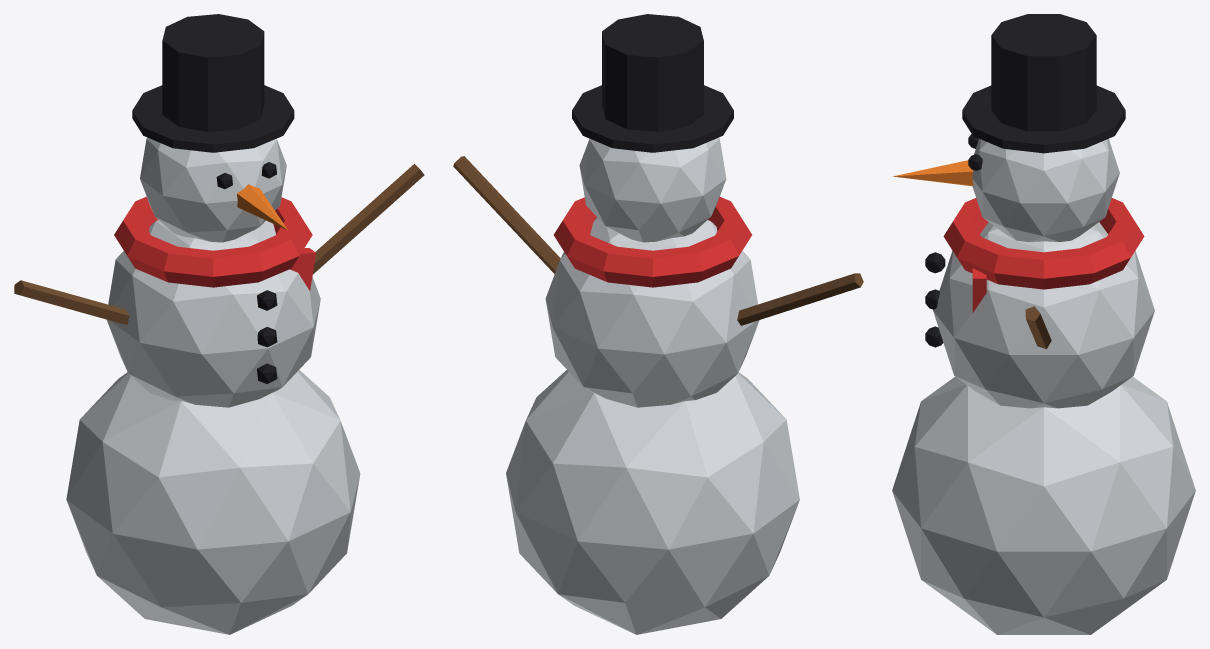
File: Snowman.fbx
The picture shows the model from 3 angles, left to right: view 1: azimuth 30°, elevation 25°; view 2: azimuth 150°, elevation 25°; view 3: azimuth 270°, elevation 25°; orthographic projection.
Visible parts, largest first — view 1: Snow, Hat, Scarf, Sticks, Coal, Carrot; view 2: Snow, Hat, Scarf, Sticks; view 3: Snow, Hat, Scarf, Coal, Carrot, Sticks.
Part boxes in pixels (x1,y1,x2,y2): Snow: (66,137,360,634); Hat: (132,14,294,152); Scarf: (114,196,316,290); Sticks: (14,164,424,324); Coal: (216,162,277,383); Carrot: (237,184,287,230); Snow: (506,137,799,634); Hat: (572,14,733,152); Scarf: (553,197,751,287); Sticks: (453,156,863,325); Snow: (892,138,1195,634); Hat: (962,14,1125,153); Scarf: (943,198,1144,312); Coal: (925,134,982,347); Carrot: (892,160,973,186); Sticks: (1025,306,1051,348).
Bounding box in the file's own units: 4.07 × 5.6 × 2.6.
